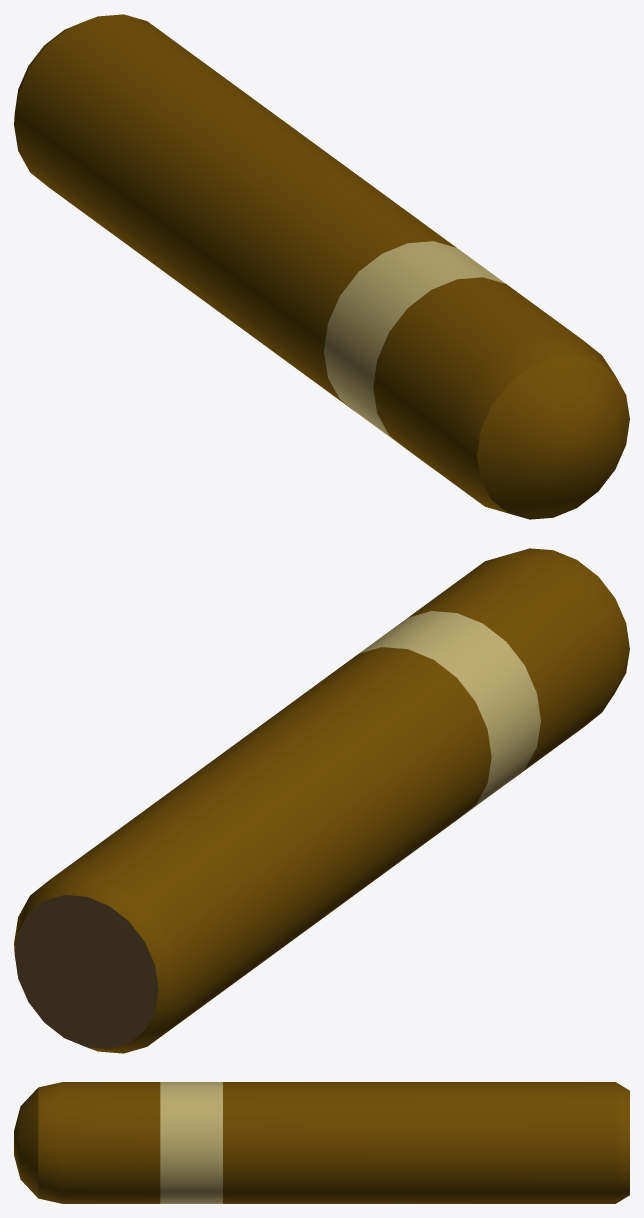
File: cigar.fbx
The picture shows the model from 3 angles, top to bottom: view 1: azimuth 30°, elevation 25°; view 2: azimuth 150°, elevation 25°; view 3: azimuth 270°, elevation 25°; orthographic projection. The views are drawn at different scales.
Parts seen in each view (by area): view 1: pCylinder2; view 2: pCylinder2; view 3: pCylinder2.
Part boxes in pixels (box(x1,y1,x2,y2)): pCylinder2: box(14, 14, 629, 519); pCylinder2: box(14, 548, 629, 1053); pCylinder2: box(14, 1082, 629, 1203).
Size of the model in its own units: 2 by 2 by 10.03.
